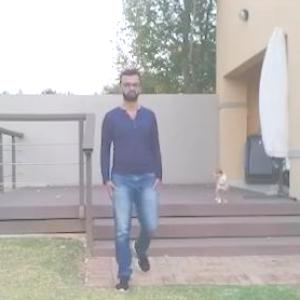follow: (100, 68, 154, 283)
